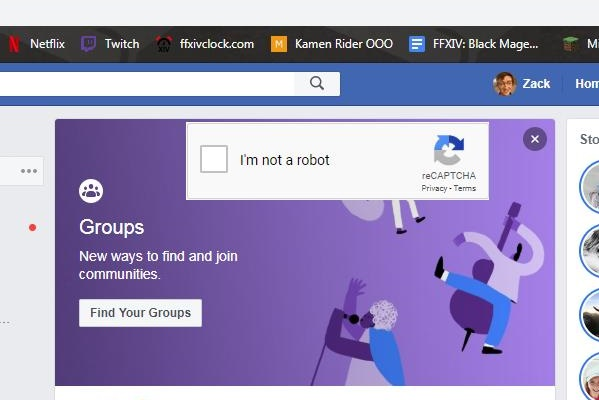captcha: (200, 145, 330, 173)
